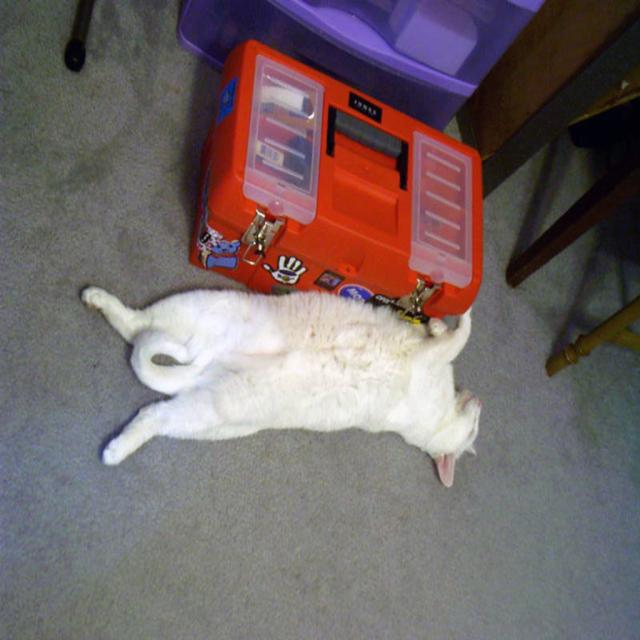Cat: (81, 289, 477, 487)
